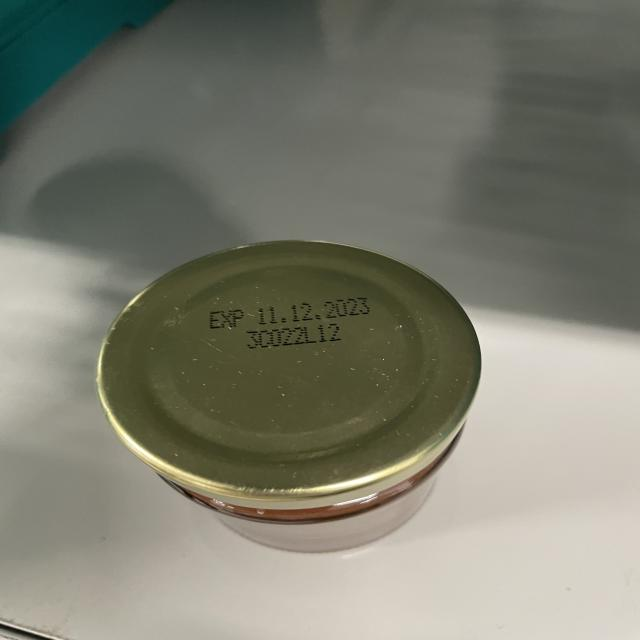object_name: (109, 235, 480, 560)
